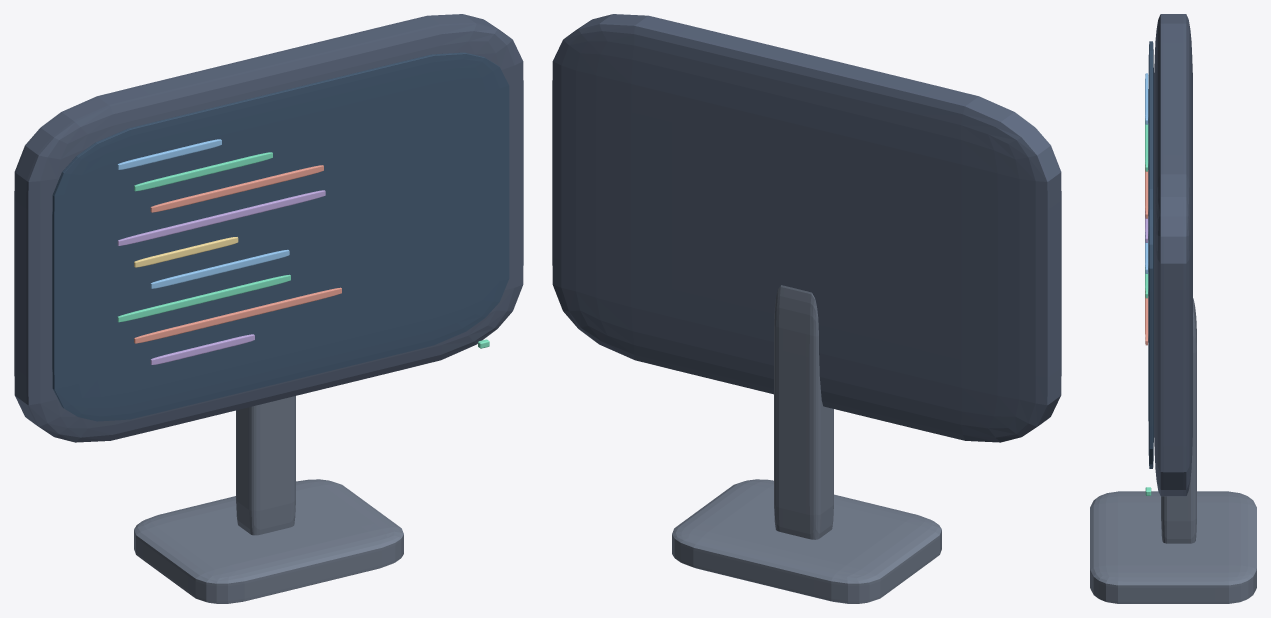
The model's file is monitor-on.glb.
3 views of the same model, side by side, from view 1: azimuth 30°, elevation 25°; view 2: azimuth 150°, elevation 25°; view 3: azimuth 270°, elevation 25° (orthographic). The views are drawn at different scales.
Visible parts, largest first — view 1: screen, housing, foot, stem, line3, line7, line2, line6, line1, line5, line0, line8 (+1 smaller); view 2: housing, foot, stem; view 3: housing, foot, stem, screen.
Part boxes in pixels (<box>): screen: <box>52,52,509,421</box>; housing: <box>14,14,523,442</box>; foot: <box>134,479,403,603</box>; stem: <box>236,396,295,535</box>; line3: <box>117,190,325,245</box>; line7: <box>134,287,341,343</box>; line2: <box>150,165,323,212</box>; line6: <box>117,274,290,322</box>; line1: <box>134,152,272,191</box>; line5: <box>150,249,289,288</box>; line0: <box>117,139,221,169</box>; line8: <box>150,334,254,364</box>; housing: <box>552,14,1061,442</box>; foot: <box>672,479,941,603</box>; stem: <box>774,285,833,539</box>; housing: <box>1154,14,1192,496</box>; foot: <box>1090,491,1256,603</box>; stem: <box>1161,298,1196,543</box>; screen: <box>1148,41,1153,468</box>.
Size of the model in its own units: 0.96 by 0.9175 by 0.3.
